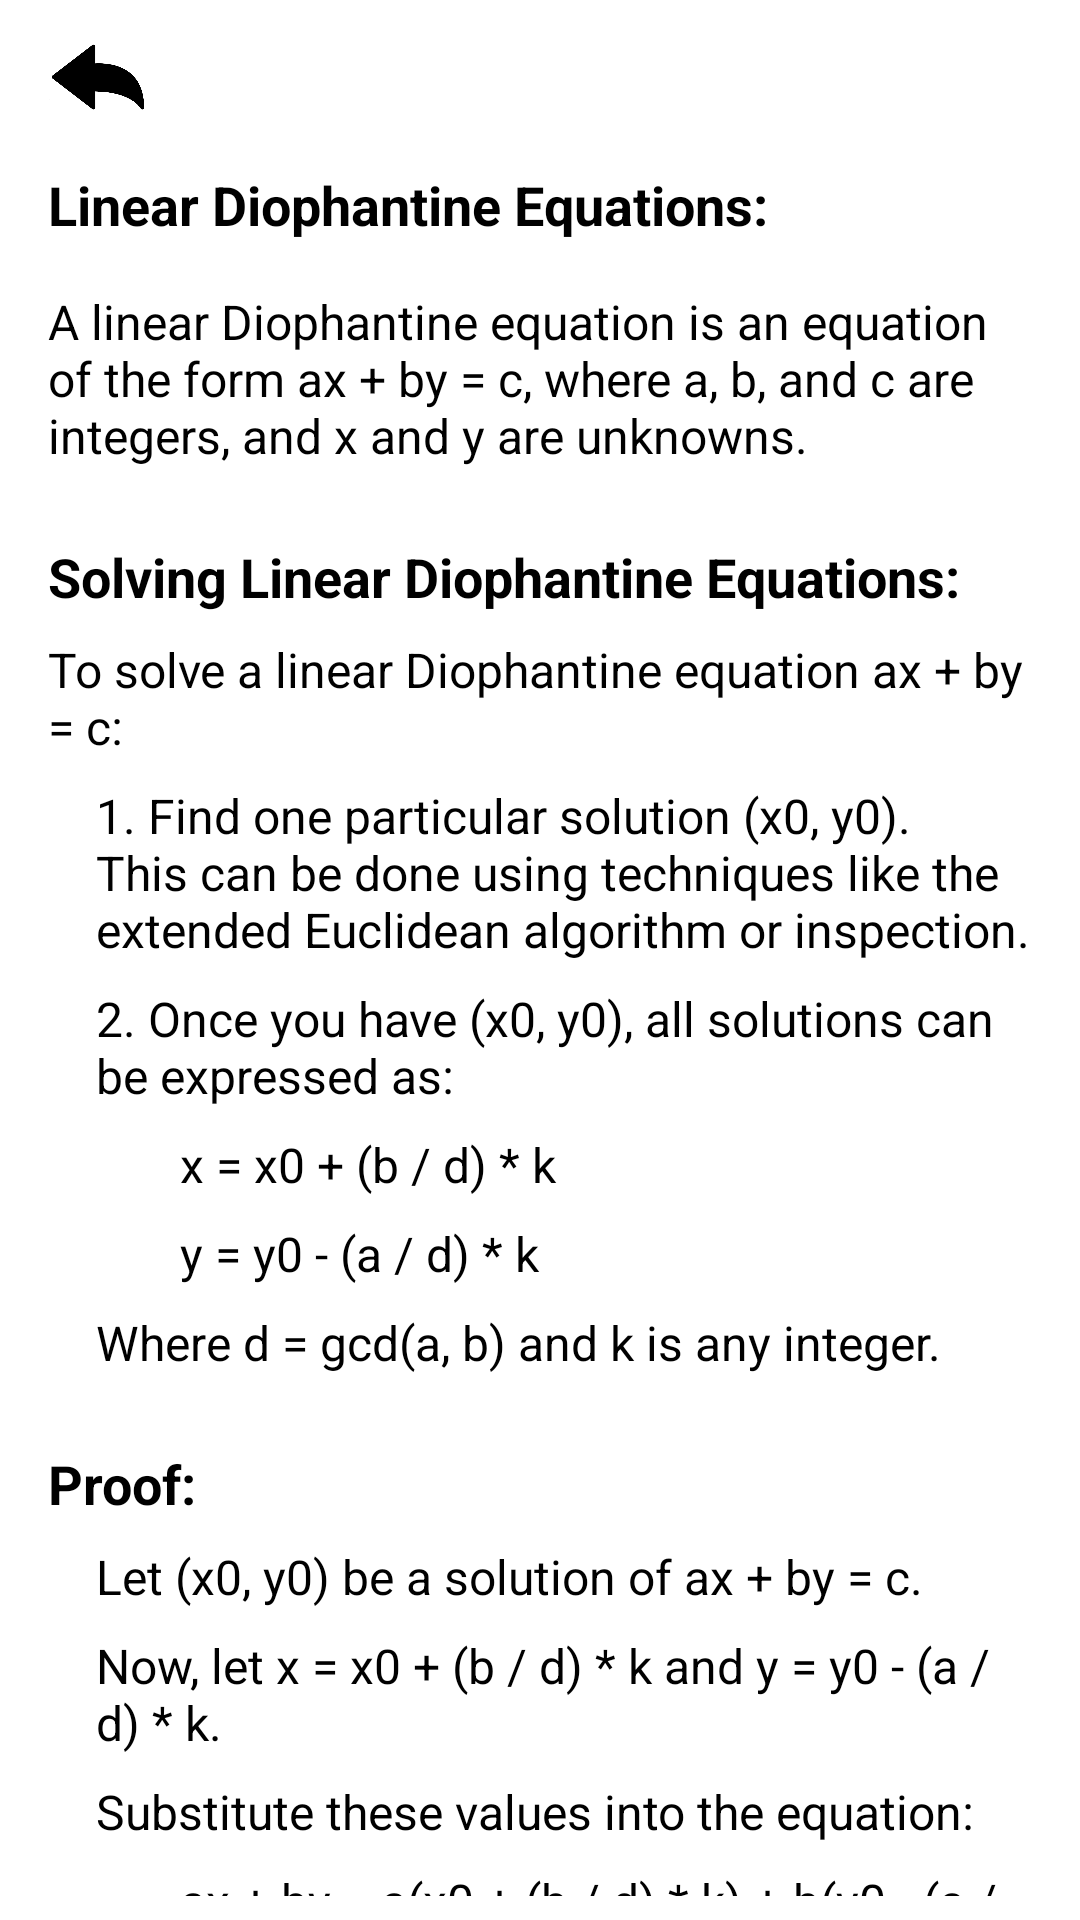

Point at icon controls on the screen. Image size 1080px×1920px, points as [x,y].
back: [98,77]
